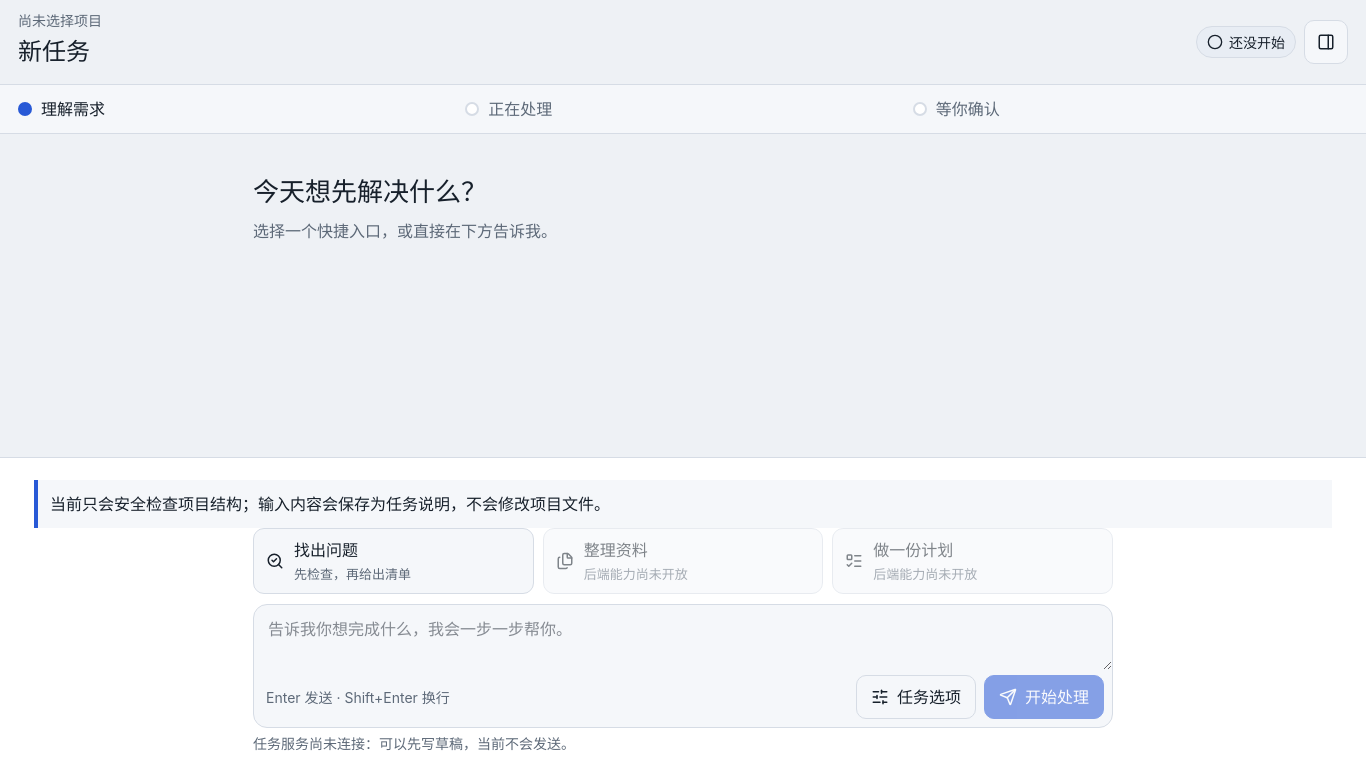
Test: TasksPage › explains that task options affect only the current task
Click the button "任务选项" at (916, 697), box [856,675,976,719]
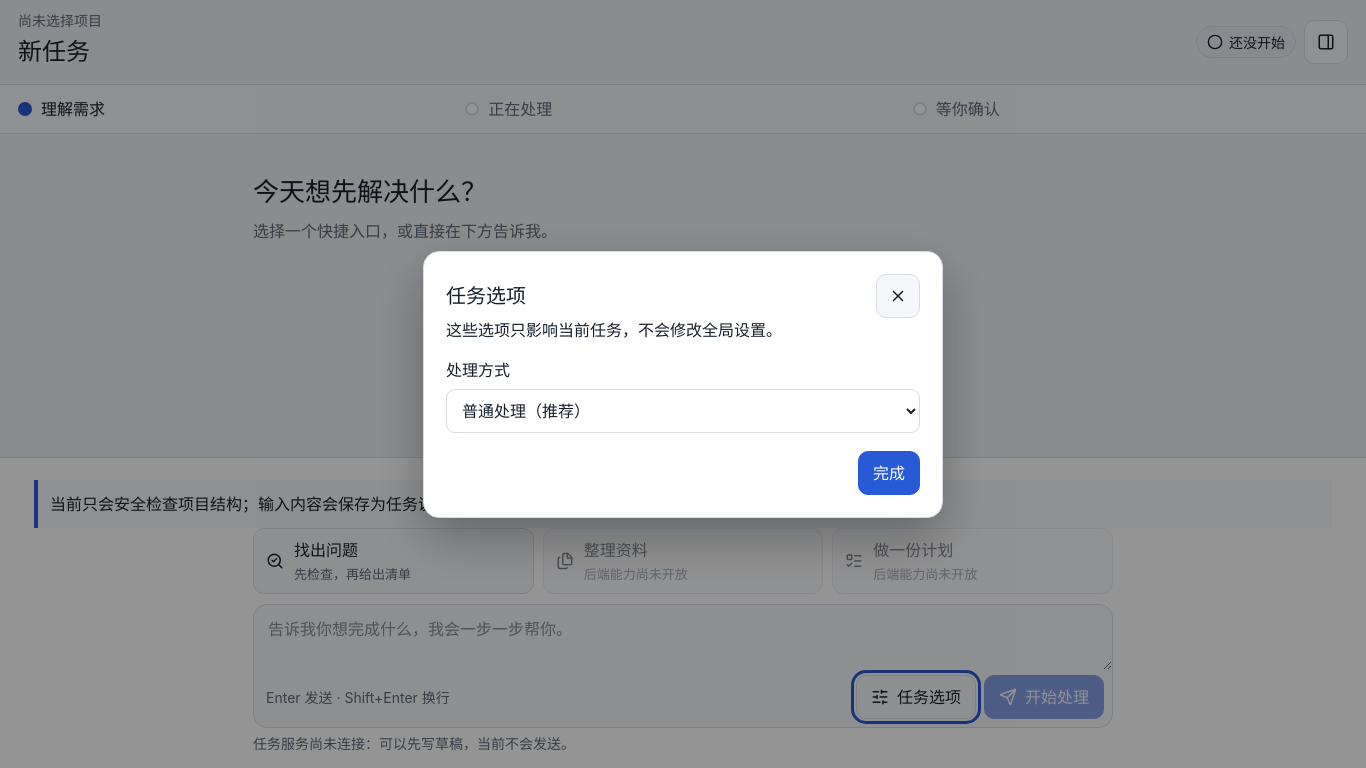
Now the dialog "任务选项" shows "只影响当前任务", box [446,320,782,340]
